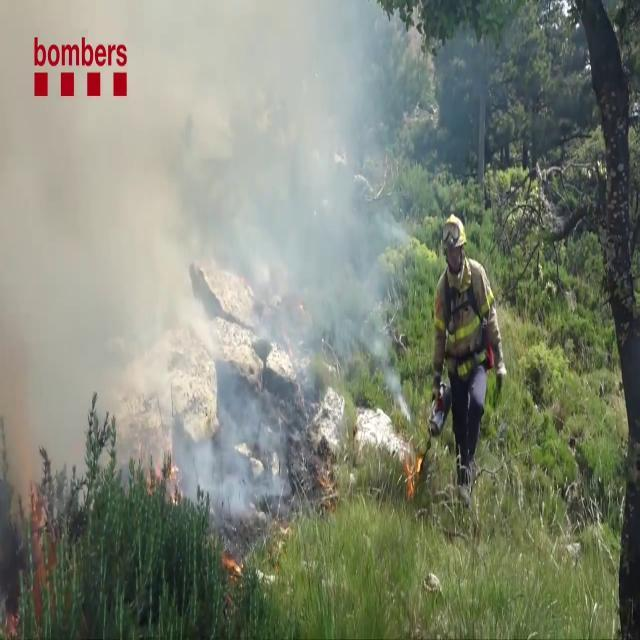Smoke: (1, 1, 417, 506)
